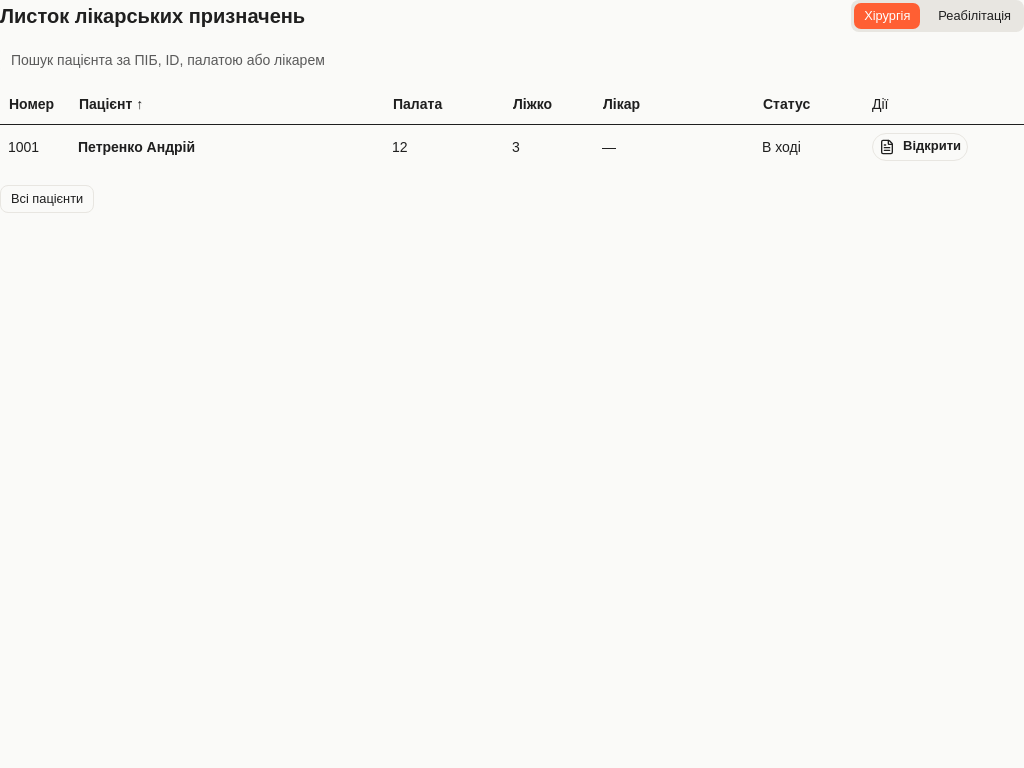
Test: PrescriptionPage list-create gating › renders «Створити листок» with PRESCRIPTION_LIST_CREATE
This screenshot has width=1024, height=768.
Click the button "Відкрити" at [920, 146], box [872,132,968,160]
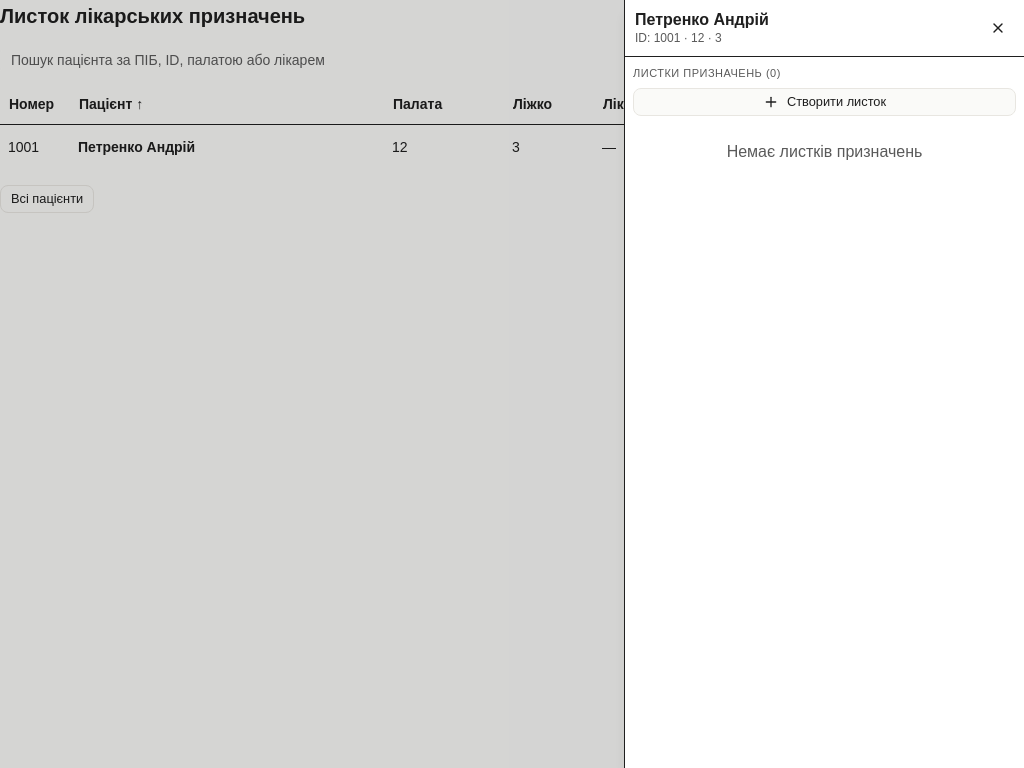
Now the text "Листки призначень (0)" is shown, box [633,67,781,79]
Now the button "Створити листок" is shown, box [633,88,1016,116]
